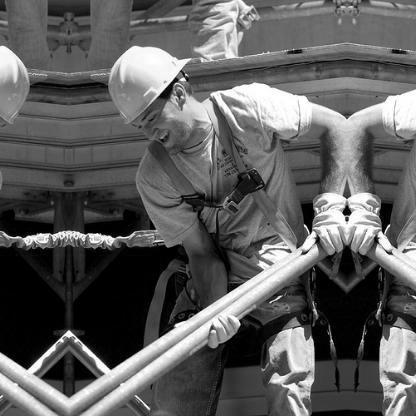vest: (93, 44, 345, 414), (348, 44, 415, 415)
